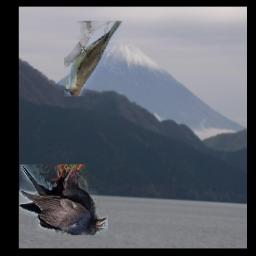Crow: (21, 165, 109, 236)
Cuckoo: (65, 21, 123, 96)
